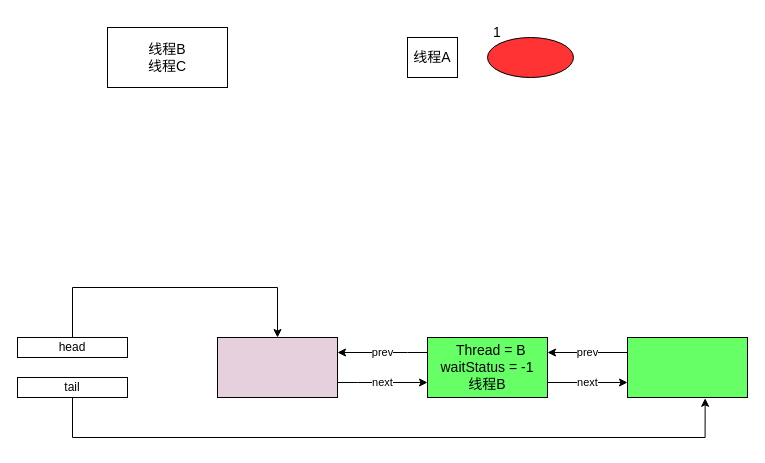
Some shapes in this 765 by 463 pixel diagram are drawn without their labels. Here are the shapes that lost their labels. From the top down, the centre of each, then its label:
At (530,57): "state".
At (277,367): "Thread = null waitStatus = -1 哨兵节点,占位".
At (687,367): "Thread = C waitStatus = 0 线程C".
